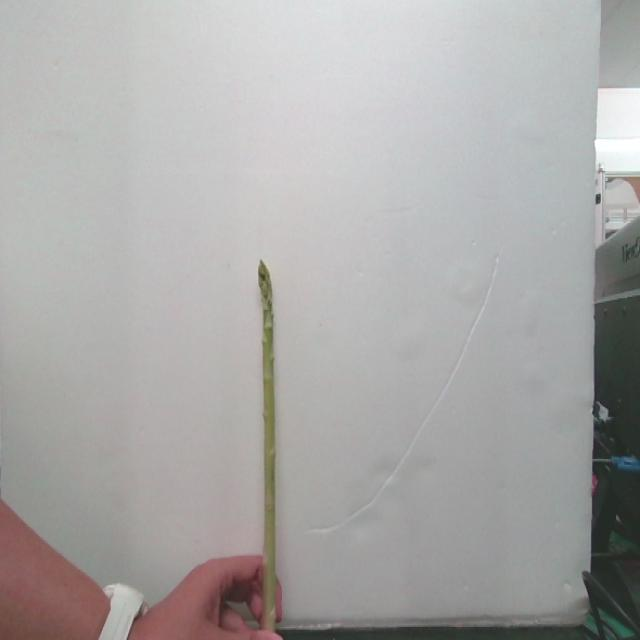aspargus: (259, 261, 280, 627)
